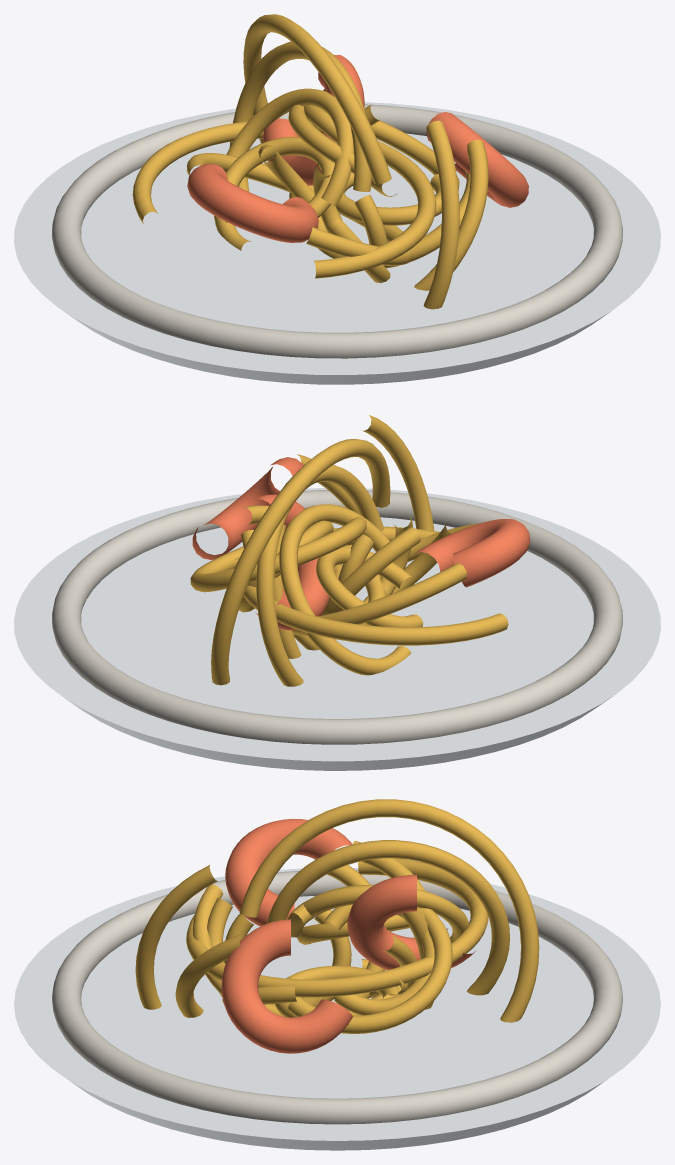
File: ShrimpPasta.glb
The picture shows the model from 3 angles, top to bottom: view 1: azimuth 30°, elevation 25°; view 2: azimuth 150°, elevation 25°; view 3: azimuth 270°, elevation 25°; orthographic projection.
Size of the model in its own units: 5.3 by 2.63 by 5.3.
